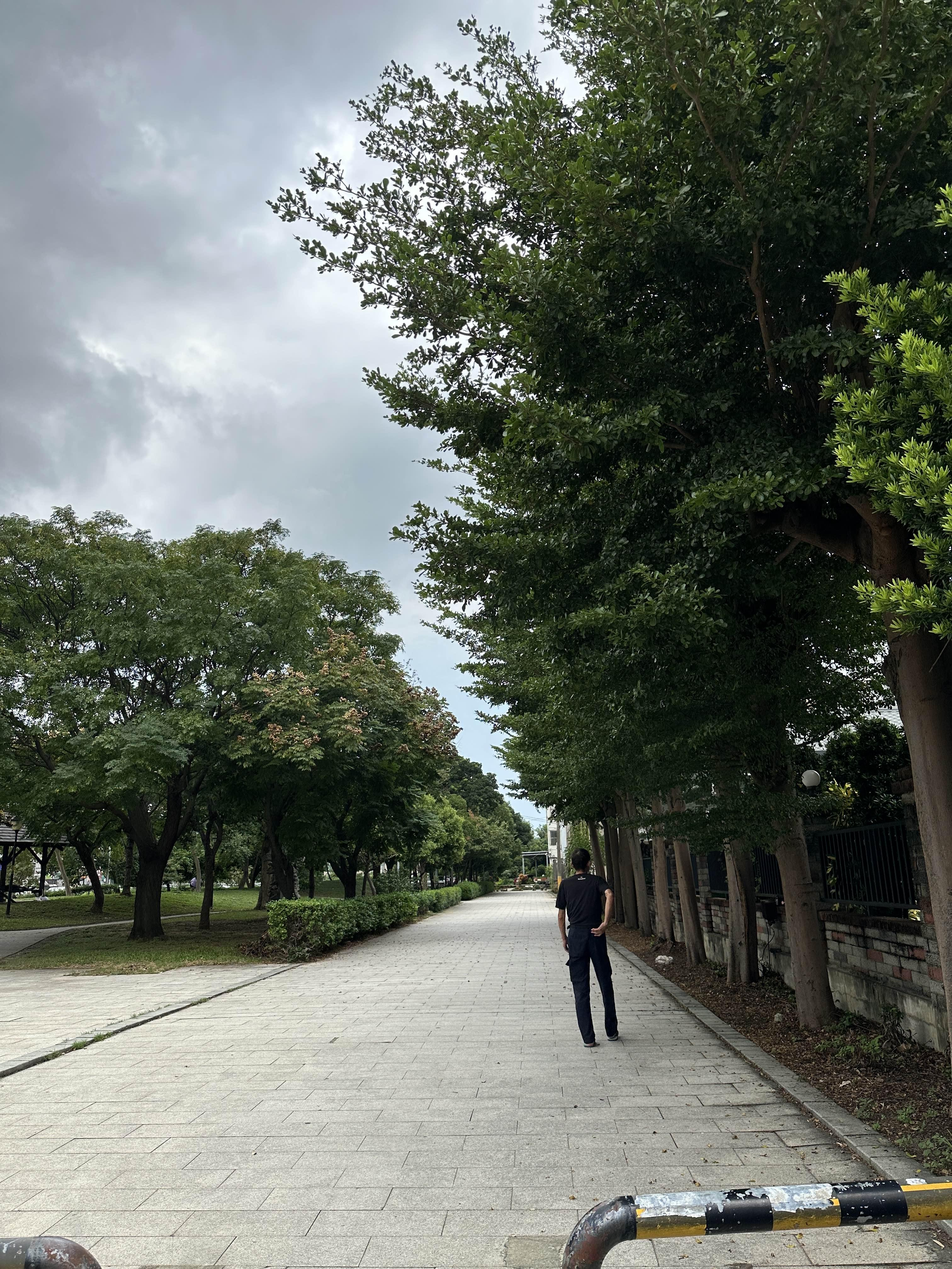NoHelmet: (571, 849, 592, 873)
NoVest: (563, 874, 606, 926)
